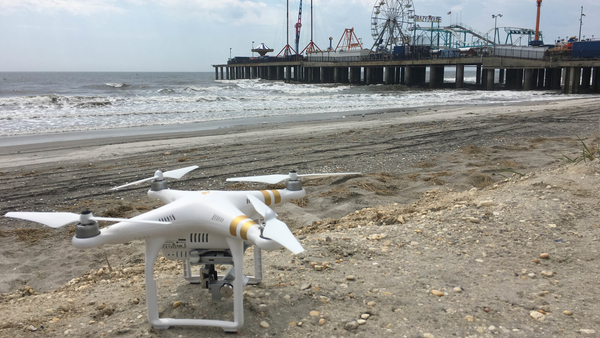drone: (3, 164, 365, 335)
